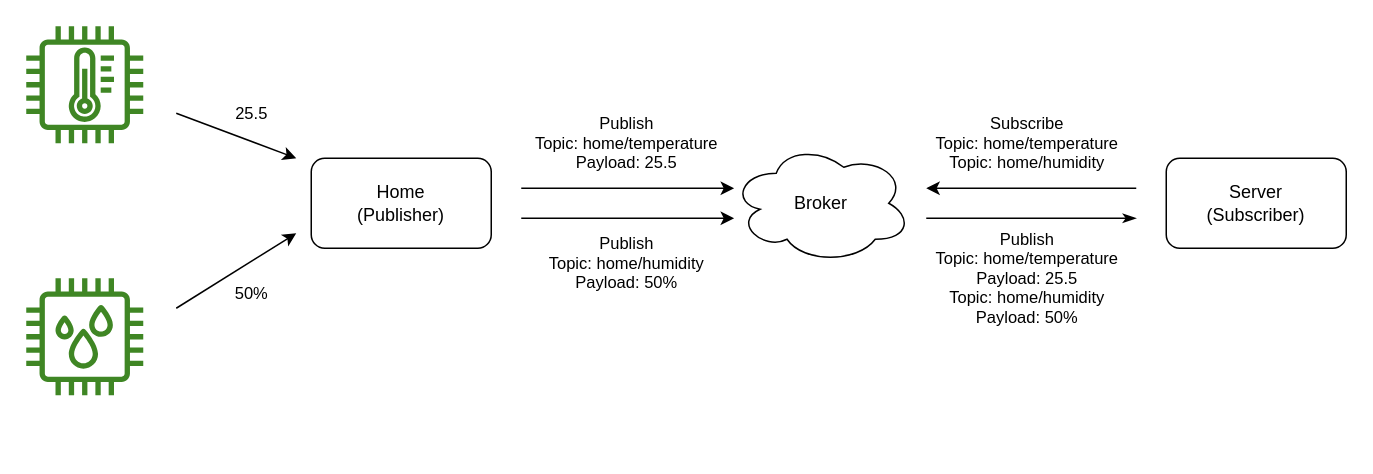
This 1373x474 diagram has some shape labels left out. Here are the shapes that lost their labels. From the top down, the centre of each, then its label:
pixel 84 84: Temperature Sensor
pixel 84 336: Humidity Sensor
